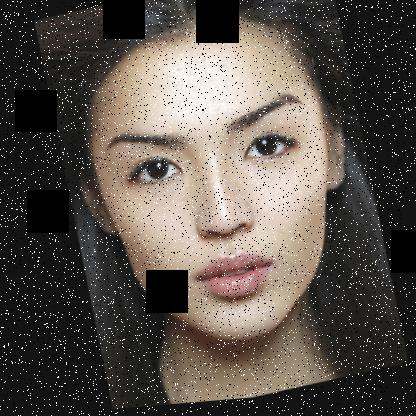Female: (48, 0, 376, 372)
